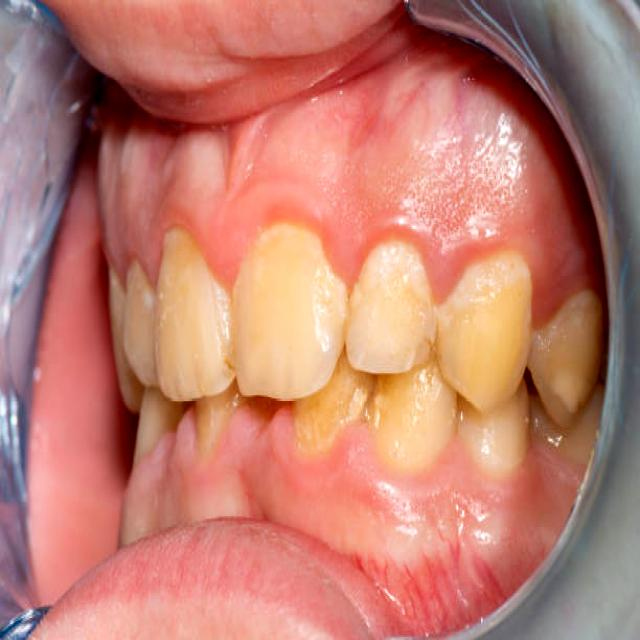calculus: (293, 353, 375, 452), (439, 251, 531, 312), (361, 243, 430, 306), (196, 383, 242, 458), (209, 275, 231, 359), (373, 386, 381, 450)
gingivitis: (123, 425, 518, 531), (128, 182, 558, 278)
